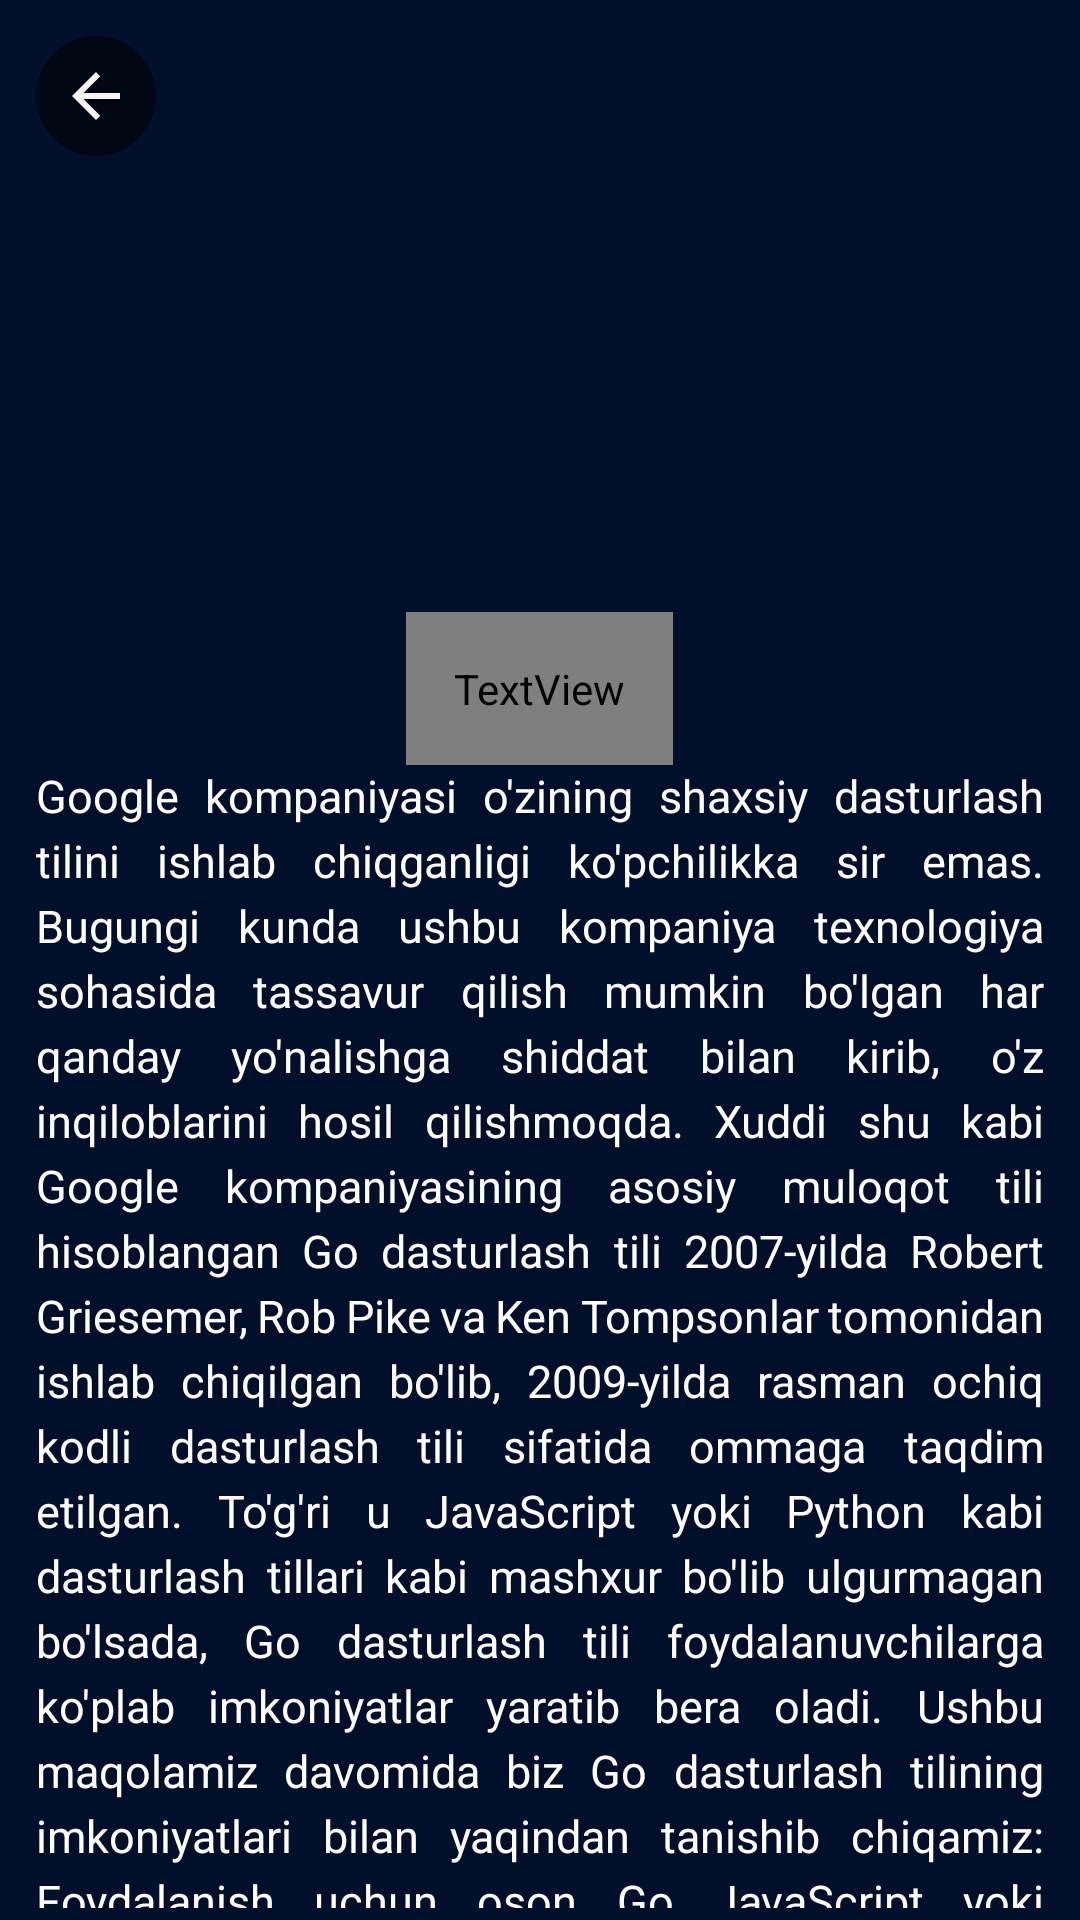

Icons on this 1080x1920 Android screen, each with its box as (x1, y1, x2, y2):
arrow back: (36, 36, 156, 156)
